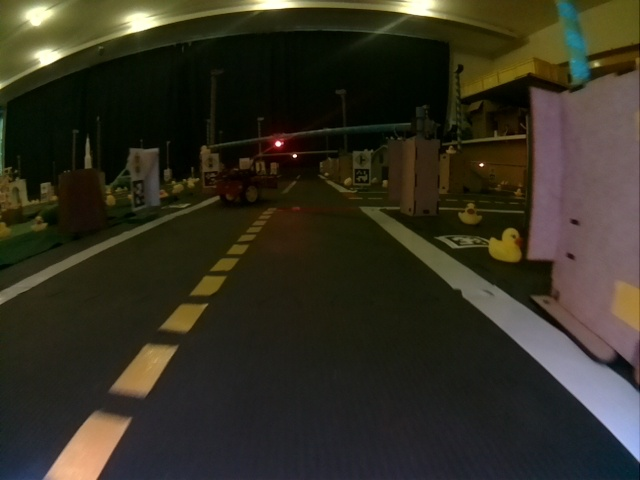Duckie: (490, 228, 522, 263), (460, 203, 482, 224), (32, 217, 46, 231), (160, 189, 169, 198), (381, 180, 390, 189), (514, 188, 522, 198), (344, 177, 352, 186), (372, 177, 381, 185), (187, 181, 194, 189)
Duckiebot: (215, 168, 277, 206)
Intersection sign: (354, 152, 370, 168)
QR code: (439, 236, 489, 247), (133, 181, 144, 207), (354, 169, 369, 184), (204, 172, 217, 186)
Signal sign: (203, 155, 217, 169)
Traffic light: (274, 139, 283, 148), (290, 152, 299, 160)
